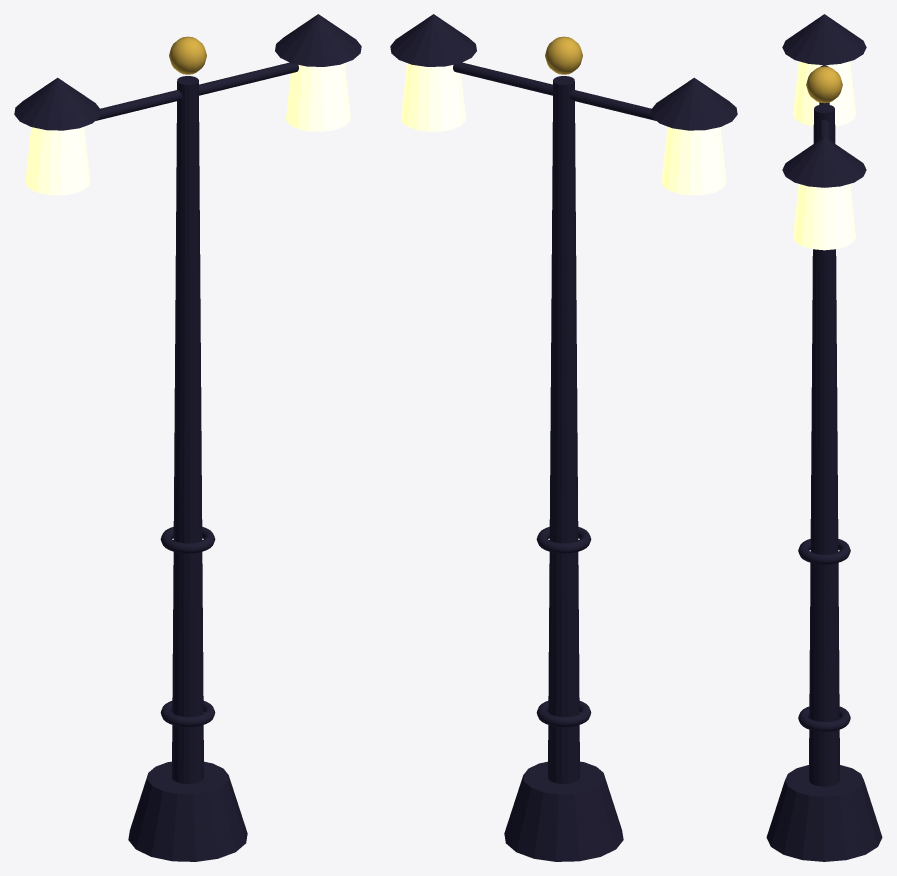
The model's file is colonial-lamp.glb.
3 renders of one model, left to right at view 1: azimuth 30°, elevation 25°; view 2: azimuth 150°, elevation 25°; view 3: azimuth 270°, elevation 25°, orthographic. The views are drawn at different scales.
Parts seen in each view (by area): view 1: Cone; view 2: Cone; view 3: Cone.
Boxes of the visible parts, bbox=[...] form: Cone: bbox=[14, 14, 361, 861]; Cone: bbox=[390, 14, 737, 861]; Cone: bbox=[766, 14, 882, 861].
Bounding box in the file's own units: 0.441 × 1 × 0.1366.
Materials: 1 (1 with a texture image).
